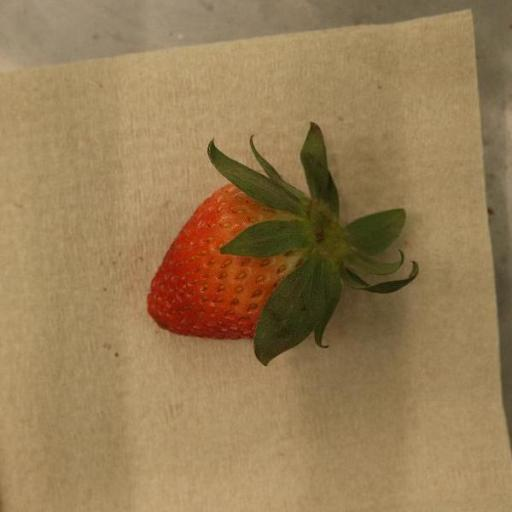Strawberry: (146, 124, 420, 367)
